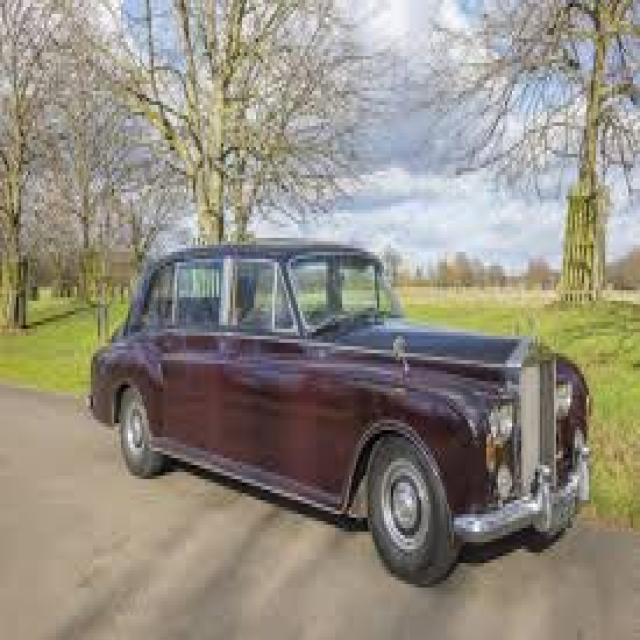car: (73, 236, 605, 598)
